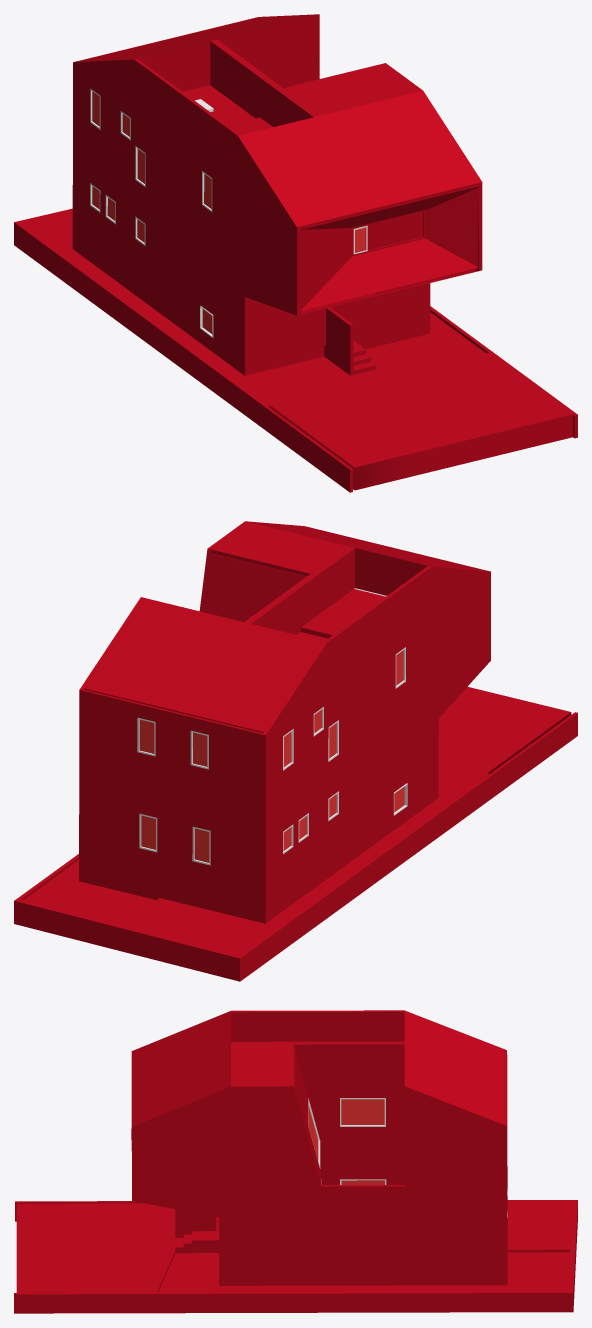
File: asset.glb
The picture shows the model from 3 angles, top to bottom: view 1: azimuth 30°, elevation 25°; view 2: azimuth 150°, elevation 25°; view 3: azimuth 270°, elevation 25°; orthographic projection. The views are drawn at different scales.
Visible parts, largest first — view 1: 3D_FACADE_BLACK, 3D_FIRST FLOOR, 3D_FACADE_REFLECTIVE, 3D_SURROUNDING CONTEXT, 3D_WALL, 3D_WINDOW FRAMES, 3d_Glass, 3D_TURF, 3D_FACADE_REFLECTIVE.001, Windows frames, 3D_FLOOR, 3D_FACADE_WHITE; view 2: 3D_FACADE_BLACK, 3D_FIRST FLOOR, 3D_SURROUNDING CONTEXT, 3D_FACADE_WHITE, 3D_TURF, 3d_Glass, 3D_WINDOW FRAMES, Windows frames, 3D_FLOOR, 3D_WALL; view 3: 3D_FACADE_BLACK, 3D_FIRST FLOOR, 3D_SURROUNDING CONTEXT, 3D_FACADE_WHITE, 3D_TURF, 3d_Glass, Windows frames.
Boxes of the visible parts, left/top/right/bottom form: 3D_FACADE_BLACK: left=72, top=14, right=482, bottom=363; 3D_FIRST FLOOR: left=31, top=212, right=572, bottom=490; 3D_FACADE_REFLECTIVE: left=300, top=186, right=478, bottom=314; 3D_SURROUNDING CONTEXT: left=14, top=208, right=577, bottom=492; 3D_WALL: left=141, top=18, right=316, bottom=91; 3D_WINDOW FRAMES: left=210, top=44, right=309, bottom=126; 3d_Glass: left=92, top=91, right=423, bottom=251; 3D_TURF: left=366, top=312, right=485, bottom=369; 3D_FACADE_REFLECTIVE.001: left=425, top=187, right=478, bottom=266; Windows frames: left=90, top=88, right=425, bottom=337; 3D_FLOOR: left=183, top=85, right=476, bottom=293; 3D_FACADE_WHITE: left=210, top=39, right=282, bottom=91; 3D_FACADE_BLACK: left=79, top=521, right=490, bottom=911; 3D_FIRST FLOOR: left=79, top=686, right=571, bottom=950; 3D_SURROUNDING CONTEXT: left=14, top=712, right=577, bottom=981; 3D_FACADE_WHITE: left=203, top=553, right=317, bottom=624; 3D_TURF: left=24, top=860, right=156, bottom=924; 3d_Glass: left=139, top=650, right=403, bottom=862; 3D_WINDOW FRAMES: left=254, top=552, right=354, bottom=634; Windows frames: left=137, top=647, right=407, bottom=865; 3D_FLOOR: left=297, top=588, right=386, bottom=641; 3D_WALL: left=355, top=551, right=424, bottom=595; 3D_FACADE_BLACK: left=131, top=1010, right=507, bottom=1272; 3D_FIRST FLOOR: left=16, top=1201, right=571, bottom=1292; 3D_SURROUNDING CONTEXT: left=14, top=1200, right=577, bottom=1313; 3D_FACADE_WHITE: left=293, top=1041, right=404, bottom=1184; 3D_TURF: left=158, top=1252, right=569, bottom=1292; 3d_Glass: left=308, top=1099, right=384, bottom=1184; Windows frames: left=308, top=1098, right=507, bottom=1217.
Size of the model in its own units: 39.94 by 43.46 by 102.
